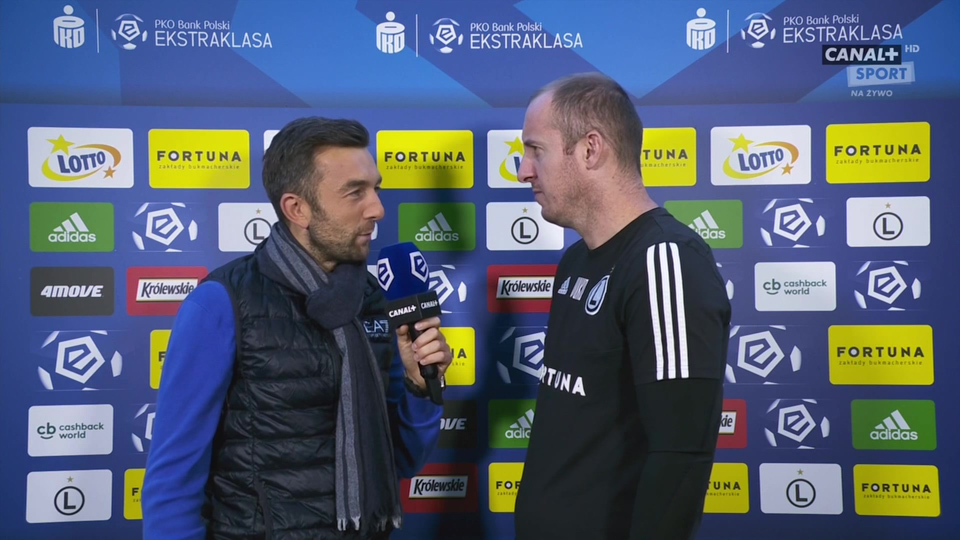Adidas: (46, 210, 96, 243), (870, 409, 918, 439), (415, 212, 460, 241), (689, 208, 725, 239), (558, 276, 571, 295)
